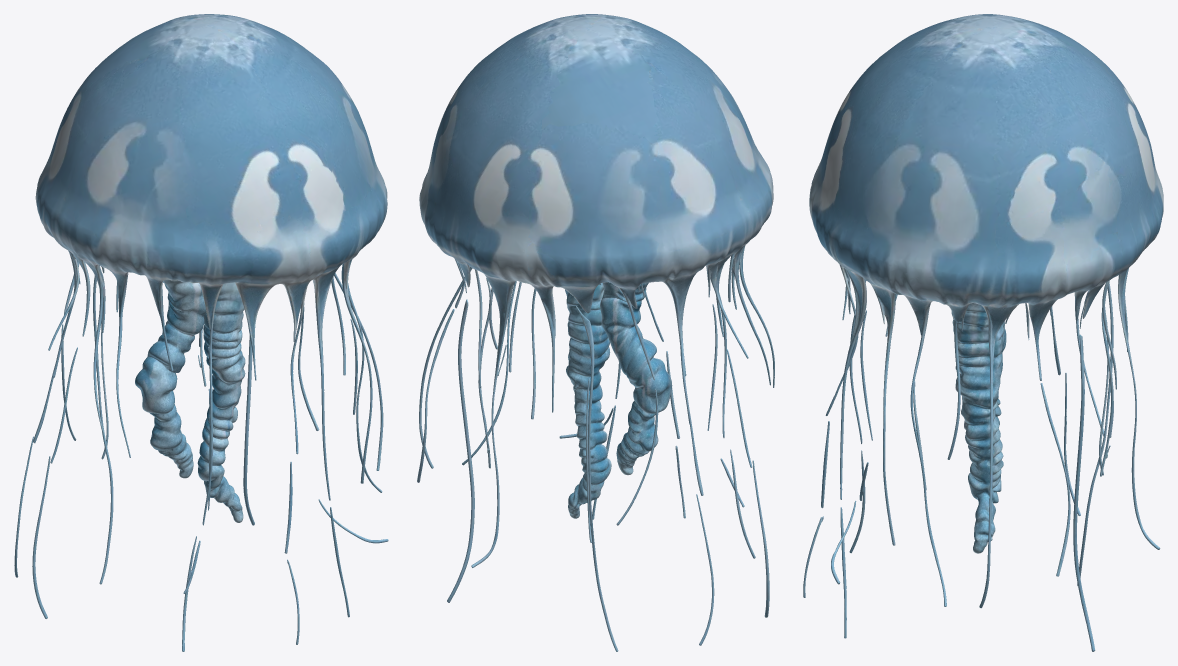
File: jelly.glb
The picture shows the model from 3 angles, left to right: view 1: azimuth 30°, elevation 25°; view 2: azimuth 150°, elevation 25°; view 3: azimuth 270°, elevation 25°; orthographic projection. The views are drawn at different scales.
Bounding box in the file's own units: 1.21 × 1.89 × 1.04.
1 material, 1 textured.
